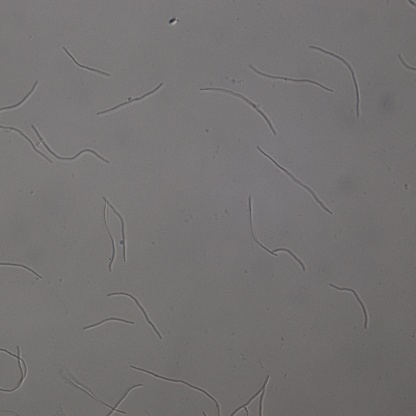Sensitive: (257, 146, 332, 213), (133, 368, 221, 416), (200, 85, 278, 135), (311, 45, 361, 115), (33, 124, 109, 163), (108, 291, 163, 338), (249, 64, 333, 93), (99, 197, 128, 273), (1, 124, 52, 165), (98, 83, 164, 114), (243, 197, 277, 255), (331, 283, 369, 327), (61, 44, 111, 77), (230, 375, 269, 416), (97, 385, 141, 416), (1, 347, 28, 394), (1, 81, 39, 111), (1, 258, 43, 280), (272, 248, 306, 270), (82, 317, 134, 330)
